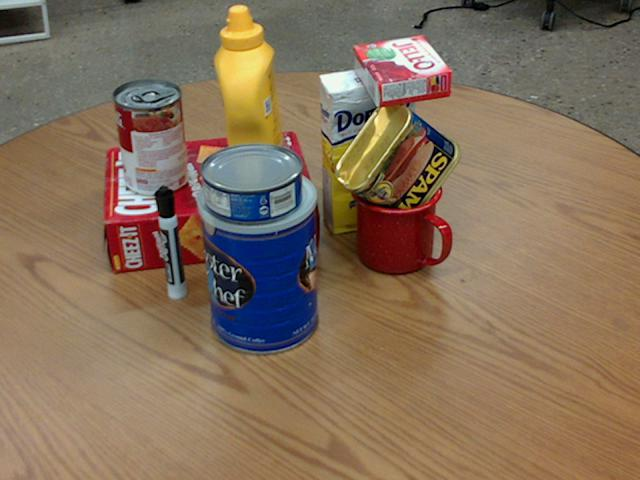cracker_box: (103, 134, 316, 273)
gelatin_box: (353, 36, 451, 106)
large_marker: (155, 187, 187, 299)
master_chef_can: (194, 162, 319, 353)
mug: (352, 166, 452, 275)
mustard_bottle: (214, 5, 289, 206)
potted_meat_can: (334, 99, 460, 226)
sugar_box: (320, 63, 416, 236)
tomato_soup_can: (112, 79, 186, 196)
tuna_fish_can: (199, 141, 302, 222)
